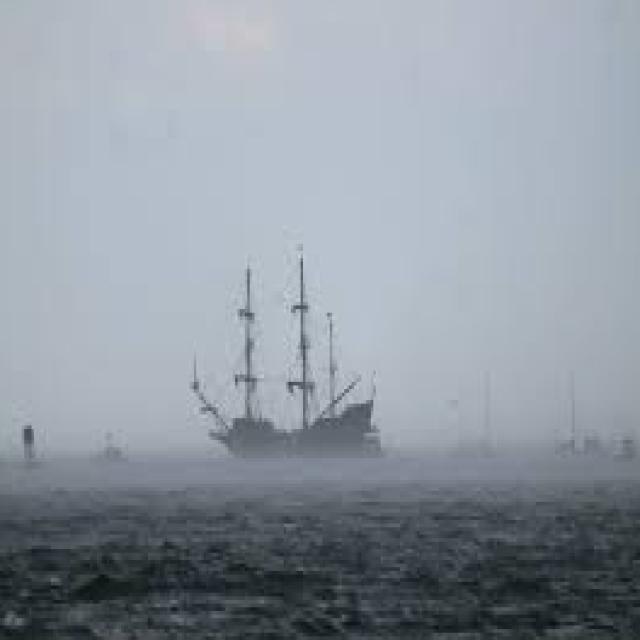fishing boat: (187, 240, 390, 454)
